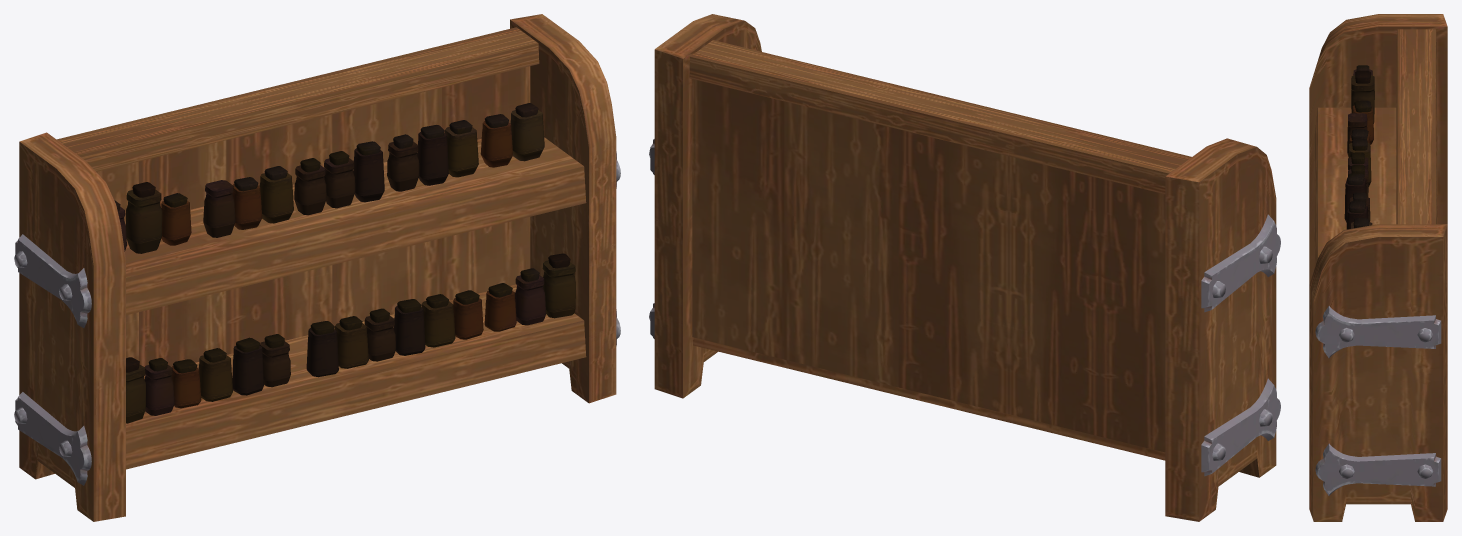
The model's file is Shelf_Small_Bottles.glb.
The picture shows the model from 3 angles, left to right: view 1: azimuth 30°, elevation 25°; view 2: azimuth 150°, elevation 25°; view 3: azimuth 270°, elevation 25°; orthographic projection. The views are drawn at different scales.
Visible parts, largest first — view 1: Shelf_Small_Bottles; view 2: Shelf_Small_Bottles; view 3: Shelf_Small_Bottles.
Part boxes in pixels (x1=…): Shelf_Small_Bottles: x1=14, y1=14, x2=620, y2=521; Shelf_Small_Bottles: x1=649, y1=14, x2=1280, y2=521; Shelf_Small_Bottles: x1=1309, y1=14, x2=1447, y2=521.
Bounding box in the file's own units: 1.14 × 0.6474 × 0.2846.
3 materials, 3 textured.
